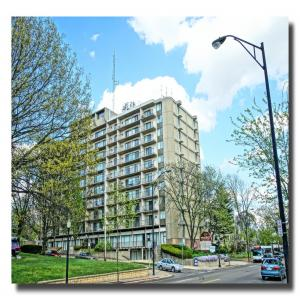Vehicle-registration-plate: (267, 268, 272, 272)
